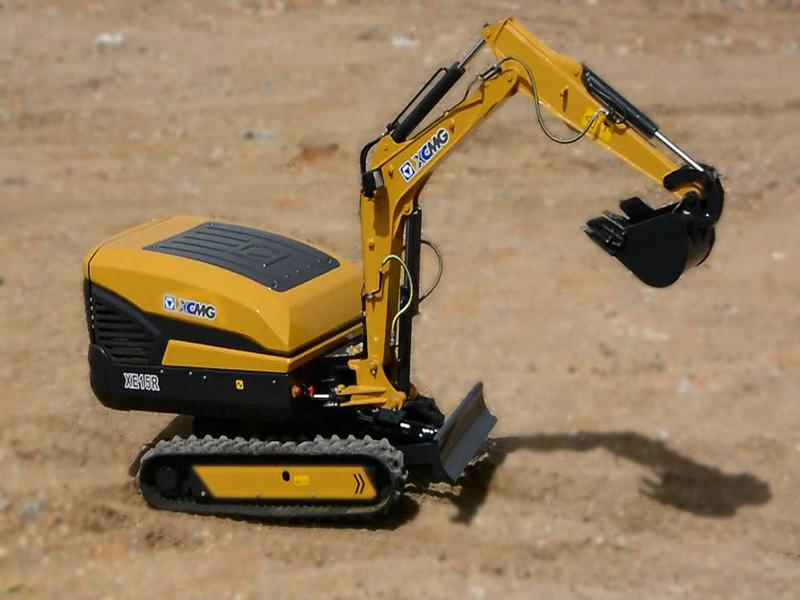shovel: (78, 10, 728, 537)
